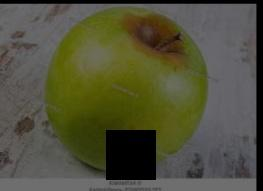rotten apple: (38, 4, 210, 174)
